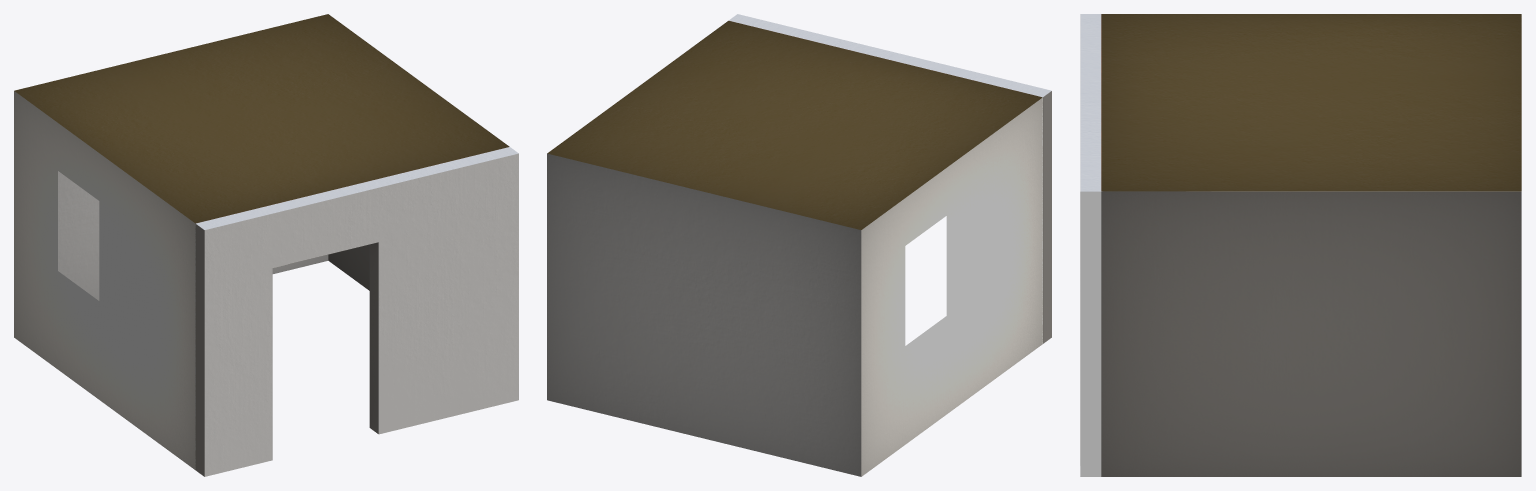
Rendered from RoomWall_001.fbx.
3 views of the same model, side by side, from view 1: azimuth 30°, elevation 25°; view 2: azimuth 150°, elevation 25°; view 3: azimuth 270°, elevation 25° (orthographic). The views are drawn at different scales.
Visible parts, largest first — view 1: Room_001; view 2: Room_001; view 3: Room_001.
Boxes of the visible parts, x1,y1,x2,y2 form: Room_001: (14,14,518,476); Room_001: (547,14,1051,476); Room_001: (1080,14,1521,476).
Bounding box in the file's own units: 400 × 300 × 420.
1 material, 1 textured.
